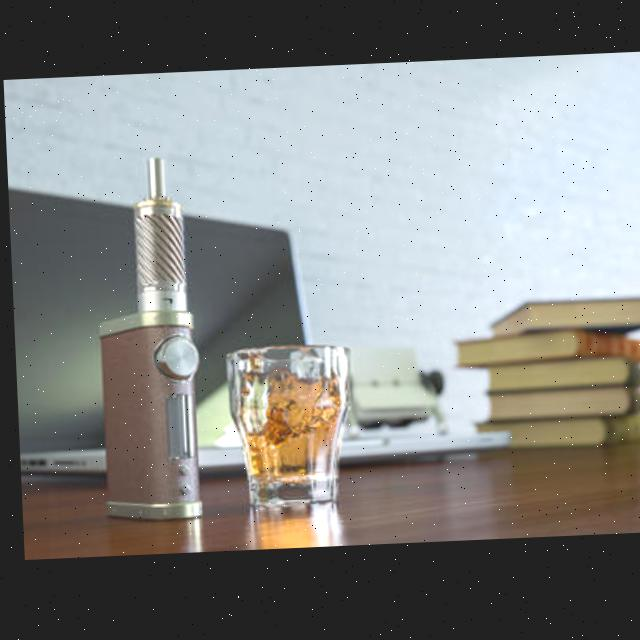vape: (88, 157, 204, 526)
